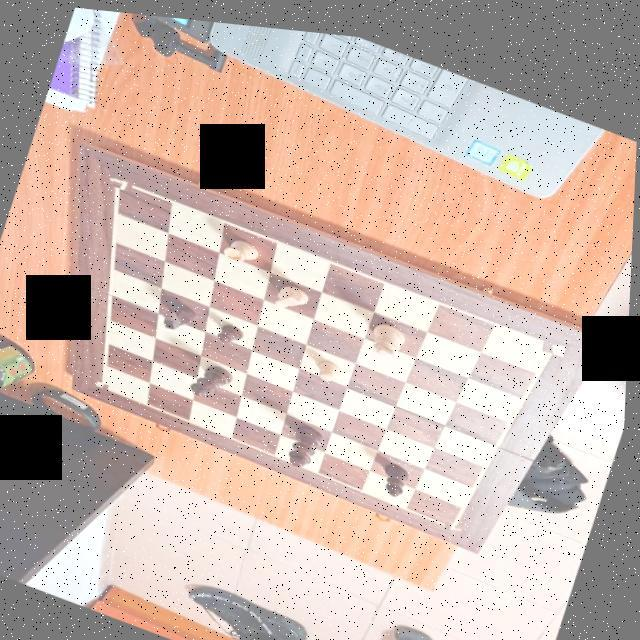chess-table-corners: (544, 324, 571, 346), (110, 170, 136, 190), (449, 510, 468, 525), (99, 378, 113, 390)
